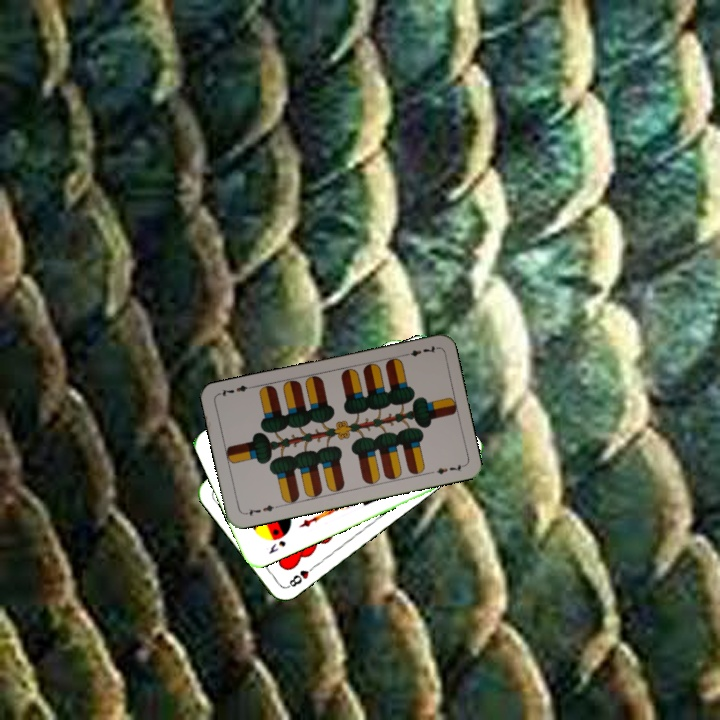E7: (399, 342, 440, 359), (241, 501, 281, 518)
H8: (283, 561, 318, 590)
SK: (265, 536, 288, 556)
